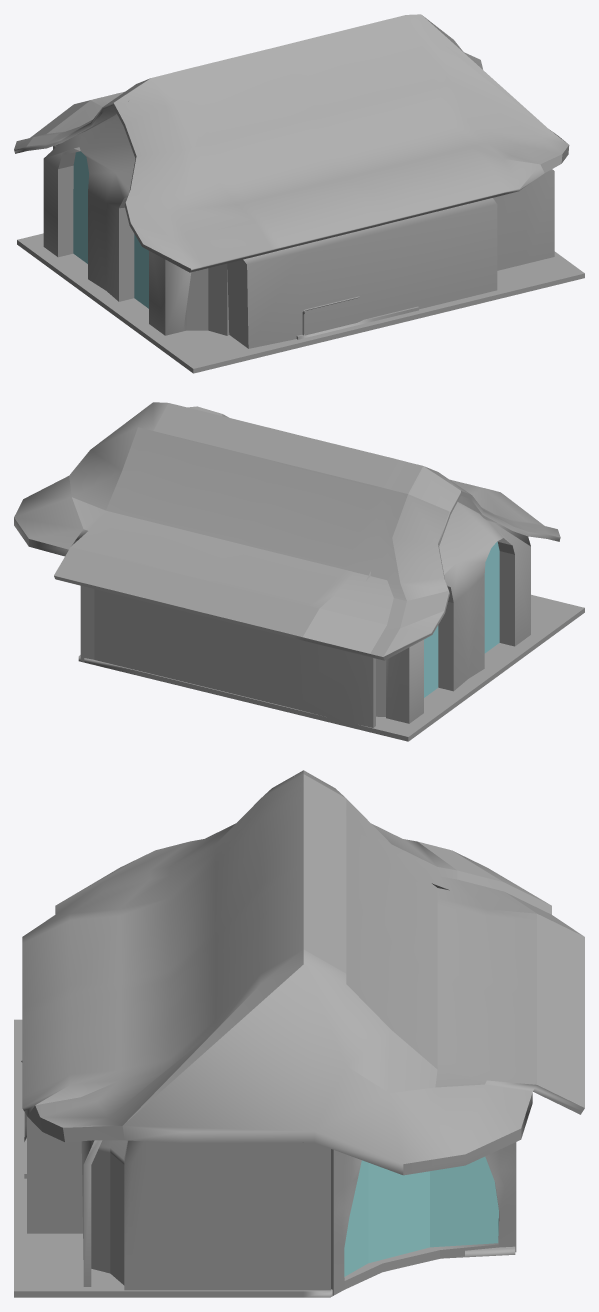
Rendered from room base.fbx.
The picture shows the model from 3 angles, top to bottom: view 1: azimuth 30°, elevation 25°; view 2: azimuth 150°, elevation 25°; view 3: azimuth 270°, elevation 25°; orthographic projection. The views are drawn at different scales.
Visible parts, largest first — view 1: pasted__pasted__pCube2, wall_1, back_wall, floor, pasted__pasted__pasted__pCube2, windows_glass, blacksmith_floor; view 2: pasted__pasted__pCube2 (×2), pasted__wall_1, back_wall, floor, windows_glass, arch_window; view 3: pasted__pasted__pCube2, small_wall, window, floor, wall_1, arch_window, pasted__pCube2.
Boxes of the visible parts, bbox=[...] form: pasted__pasted__pCube2: bbox=[14, 14, 569, 272]; wall_1: bbox=[227, 169, 554, 348]; back_wall: bbox=[43, 114, 191, 335]; floor: bbox=[17, 233, 584, 373]; pasted__pasted__pasted__pCube2: bbox=[186, 263, 229, 335]; windows_glass: bbox=[73, 151, 148, 308]; blacksmith_floor: bbox=[296, 296, 418, 339]; pasted__pasted__pCube2 (×2): bbox=[14, 402, 560, 716]; pasted__wall_1: bbox=[94, 589, 375, 727]; back_wall: bbox=[366, 502, 530, 723]; floor: bbox=[78, 594, 584, 741]; windows_glass: bbox=[424, 541, 499, 697]; arch_window: bbox=[80, 586, 94, 661]; pasted__pasted__pCube2: bbox=[22, 770, 584, 1175]; small_wall: bbox=[124, 1140, 330, 1290]; window: bbox=[344, 1156, 498, 1276]; floor: bbox=[14, 1019, 515, 1297]; wall_1: bbox=[27, 1116, 102, 1286]; arch_window: bbox=[331, 1142, 516, 1295]; pasted__pCube2: bbox=[91, 1140, 127, 1285].
Bounding box in the file's own units: 27.74 × 12.57 × 22.07.
